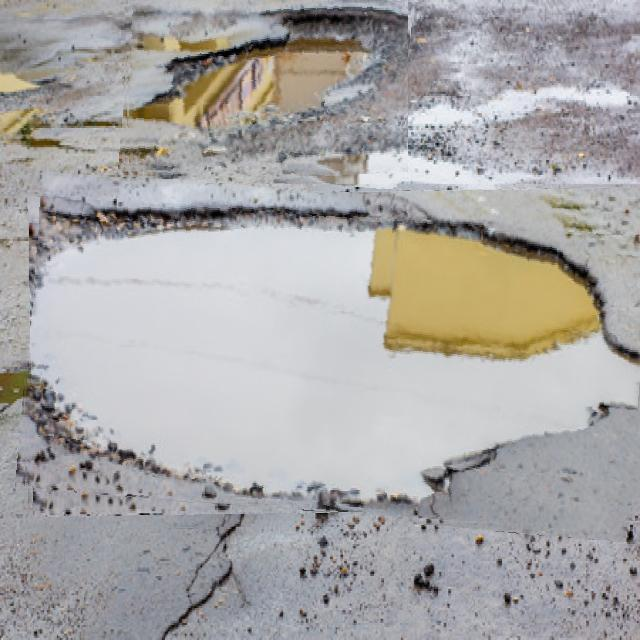Pothole: (21, 184, 640, 530), (121, 0, 408, 188)
